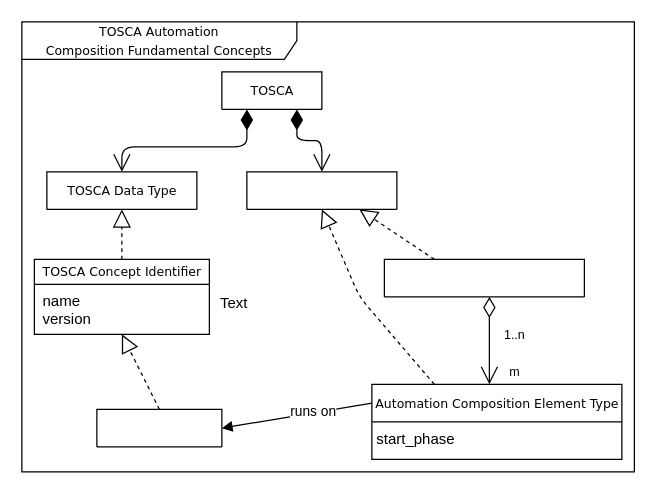
This 656x494 diagram has some shape labels left out. Each missing label, with the centre of its shape:
Automation Composition Type: point 483,277
Particiapnt Type: point 159,427
TOSCA Node Type: point 321,190
